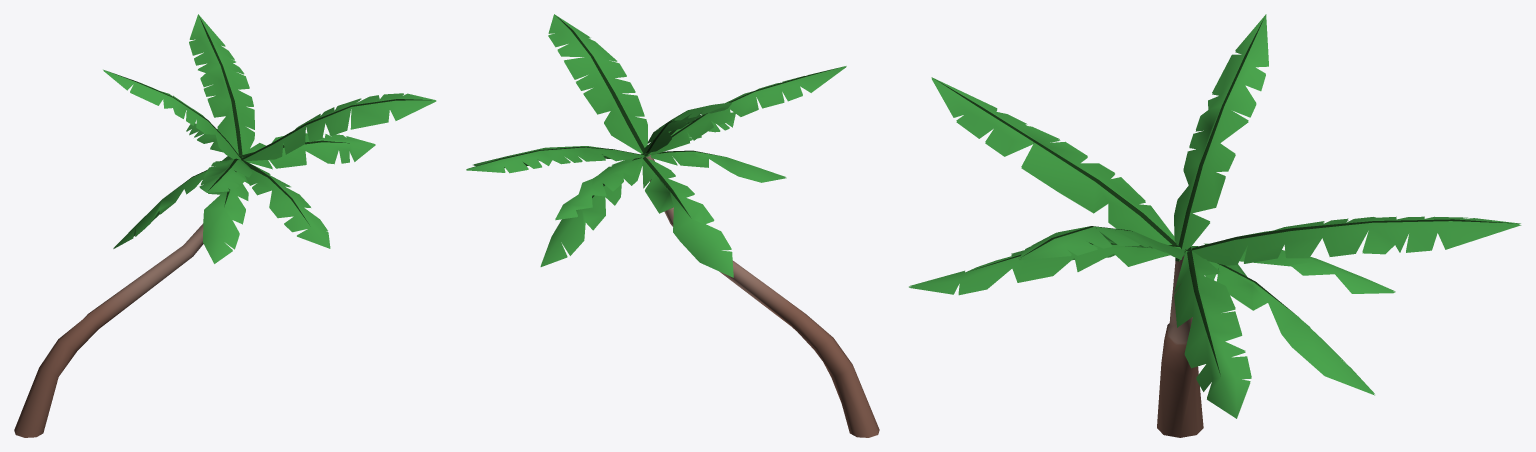
Rendered from M_yezishu02.FBX.
3 renders of one model, left to right at view 1: azimuth 30°, elevation 25°; view 2: azimuth 150°, elevation 25°; view 3: azimuth 270°, elevation 25°, orthographic. The views are drawn at different scales.
Parts seen in each view (by area): view 1: M_yezishu02_shuye01, M_yezishu02_shugan01; view 2: M_yezishu02_shuye01, M_yezishu02_shugan01; view 3: M_yezishu02_shuye01, M_yezishu02_shugan01.
Boxes of the visible parts, left/top/right/bottom form: M_yezishu02_shuye01: left=103, top=14, right=436, bottom=263; M_yezishu02_shugan01: left=14, top=223, right=203, bottom=437; M_yezishu02_shuye01: left=466, top=14, right=846, bottom=277; M_yezishu02_shugan01: left=646, top=155, right=879, bottom=437; M_yezishu02_shuye01: left=909, top=14, right=1521, bottom=418; M_yezishu02_shugan01: left=1157, top=255, right=1203, bottom=437.
Size of the model in its own units: 17.29 by 13.85 by 15.7.
